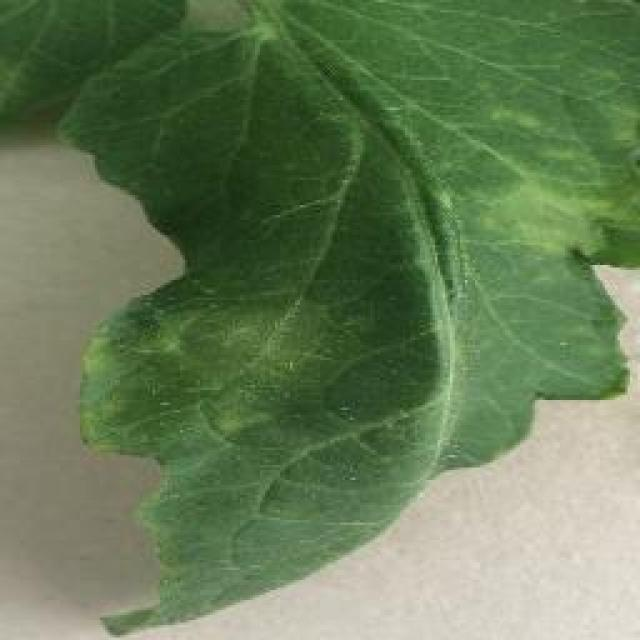Tomato late blight leaf: (12, 5, 640, 615)
